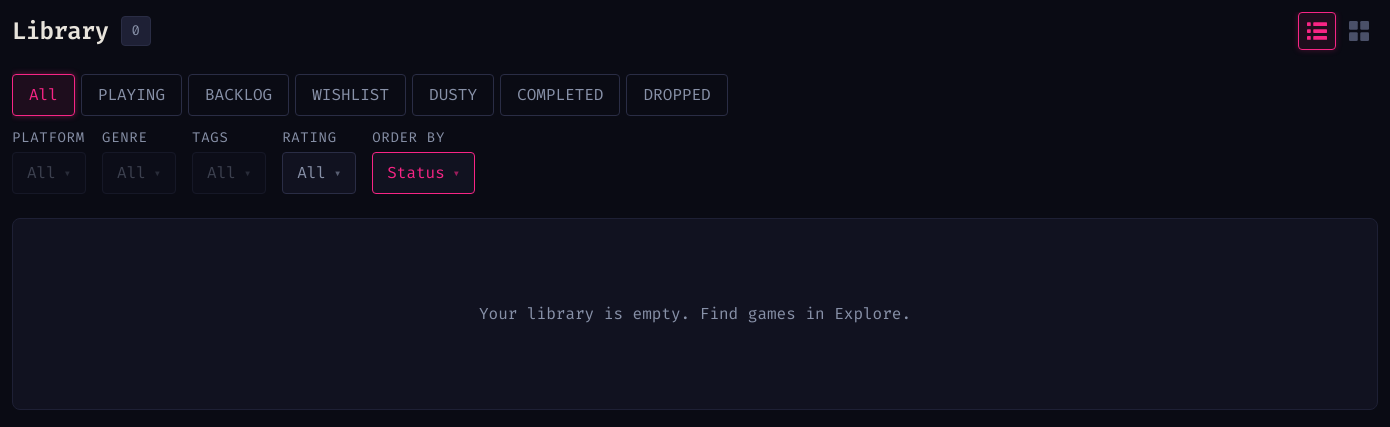
Test: Library page › switches the active tab when a status filter is clicked
What coordinates should you click on to do the following:
click the button "BACKLOG"
I would click on:
 (239, 95)
Its box is [188,74,289,116].
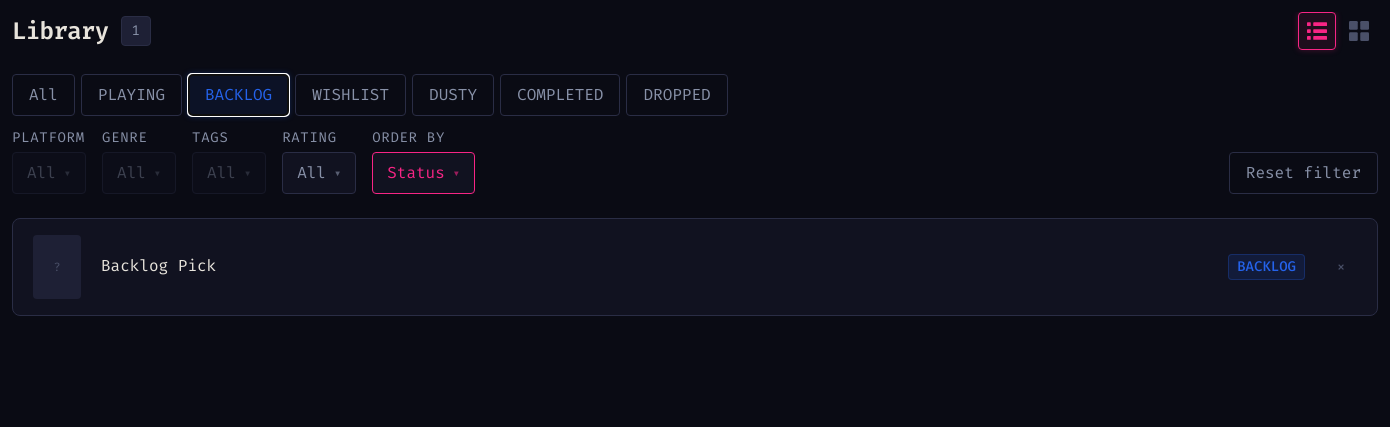
Expected: the text "Backlog Pick" is shown, [101,255,216,276]
